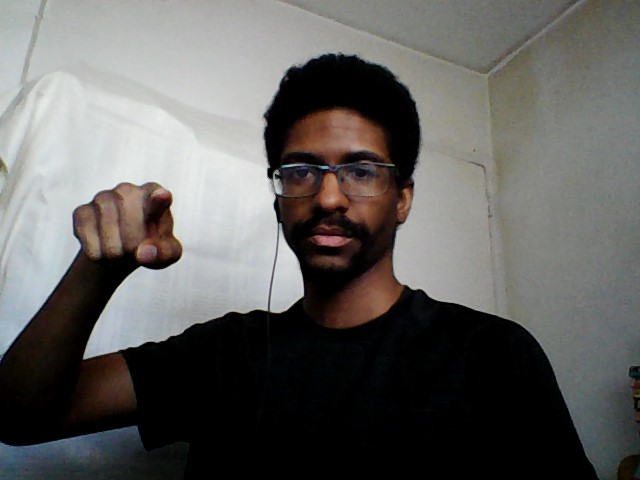z: (68, 179, 188, 275)
